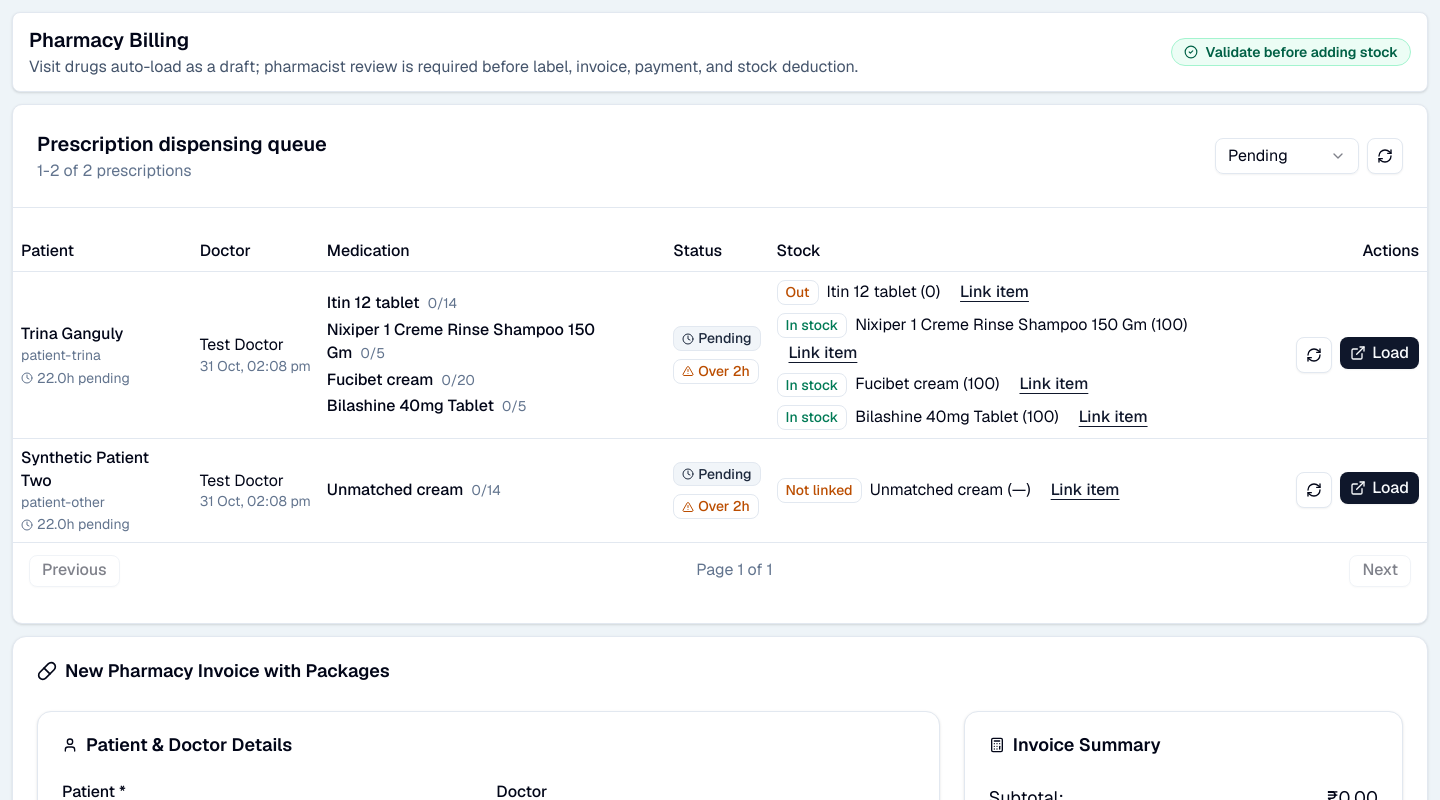
Test: shows a visible load error and retries the same prescription
Click the button "Load" in the row of "Trina Ganguly" at (1380, 353), box [1340,337,1419,369]
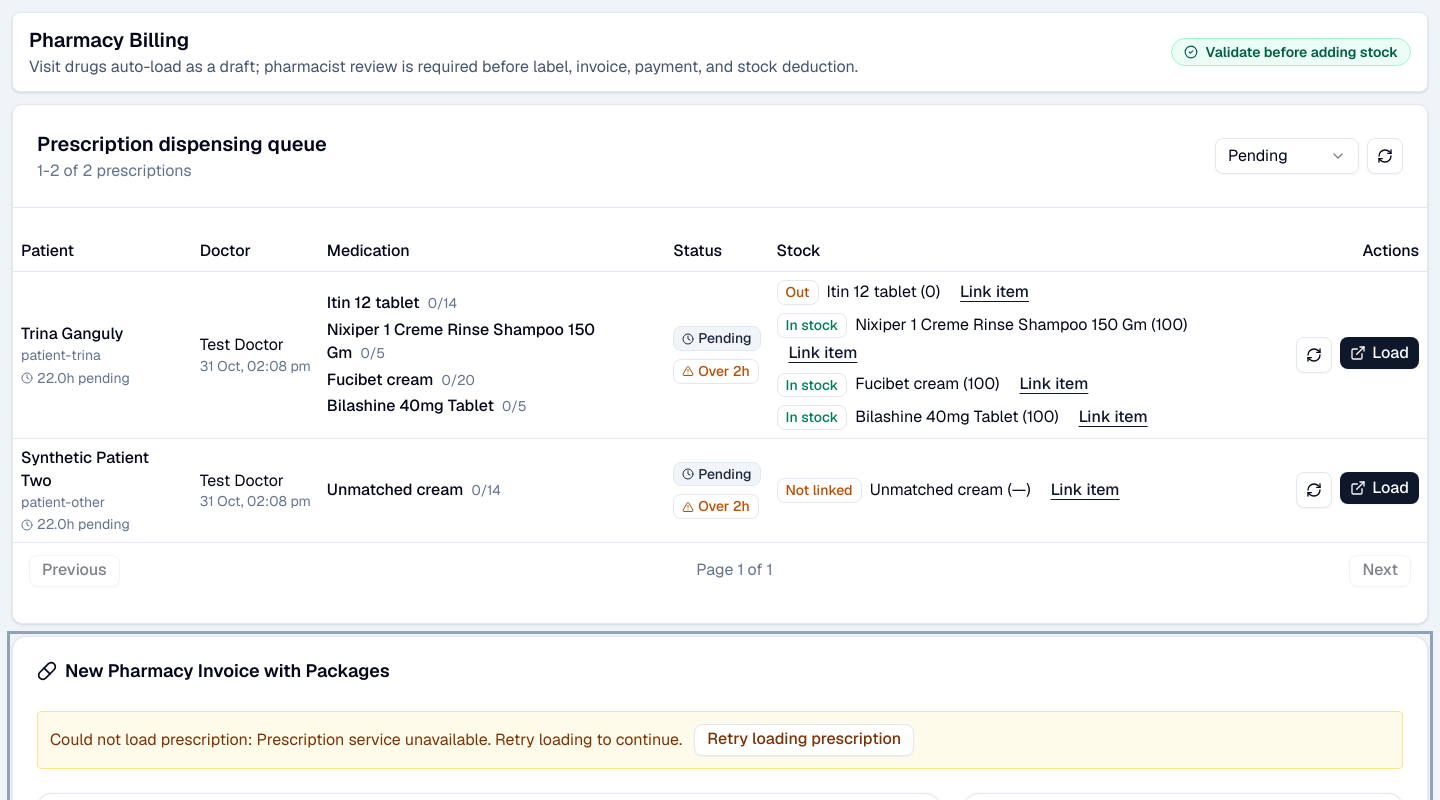
Expected: the message shows "Prescription service unavailable", [50,728,682,750]
Click the button "Retry loading prescription" at (804, 740), box [694,724,914,756]
(page scrolled)
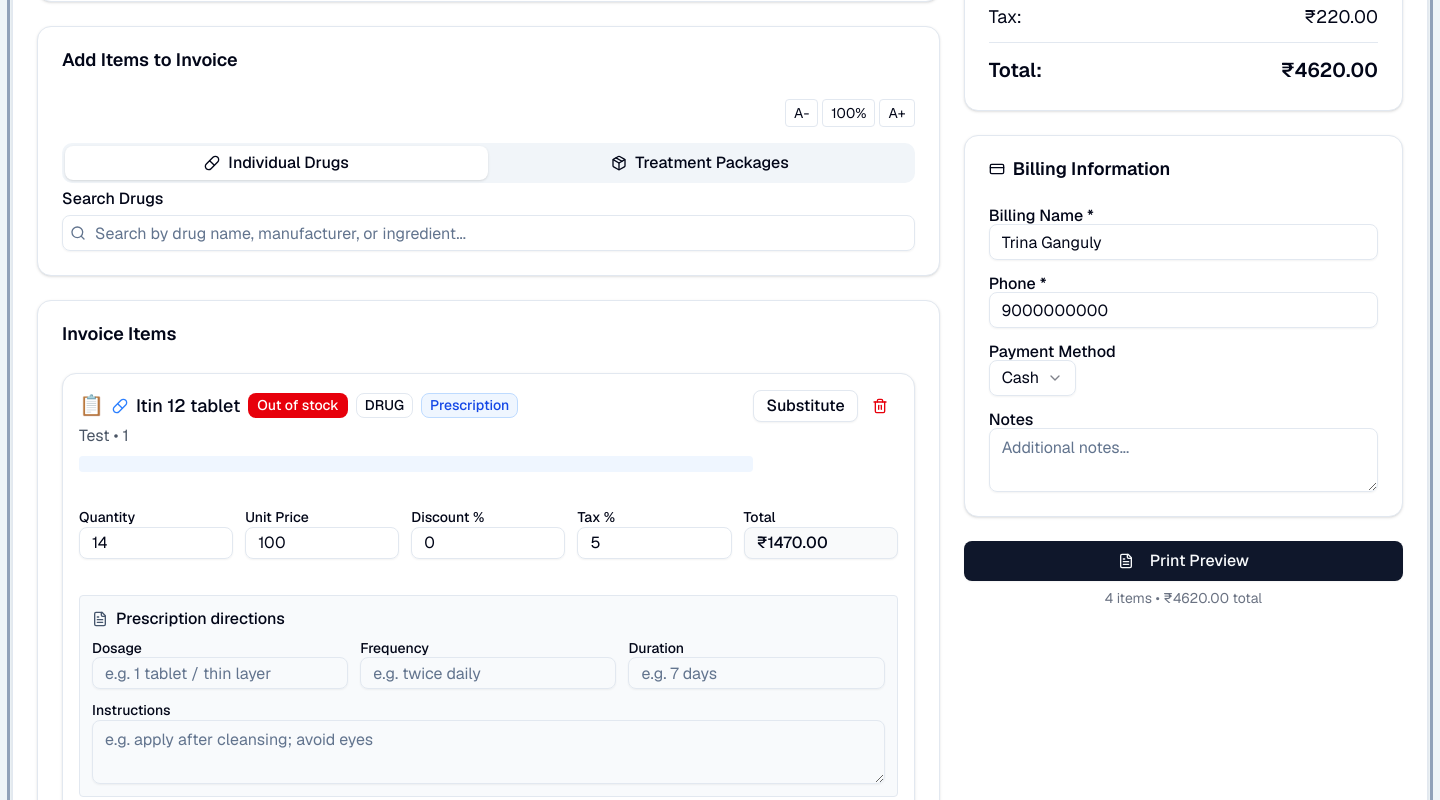
Expected: the heading "Itin 12 tablet" is shown, [136,392,240,419]
